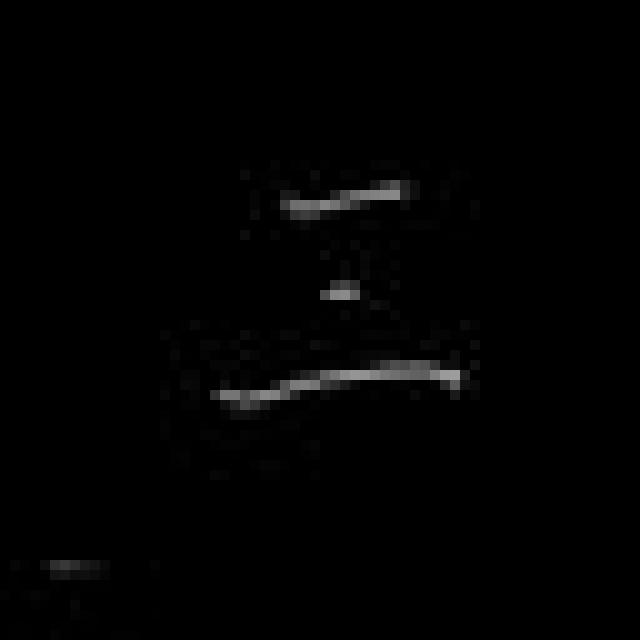3 -three-: (206, 172, 482, 422)
